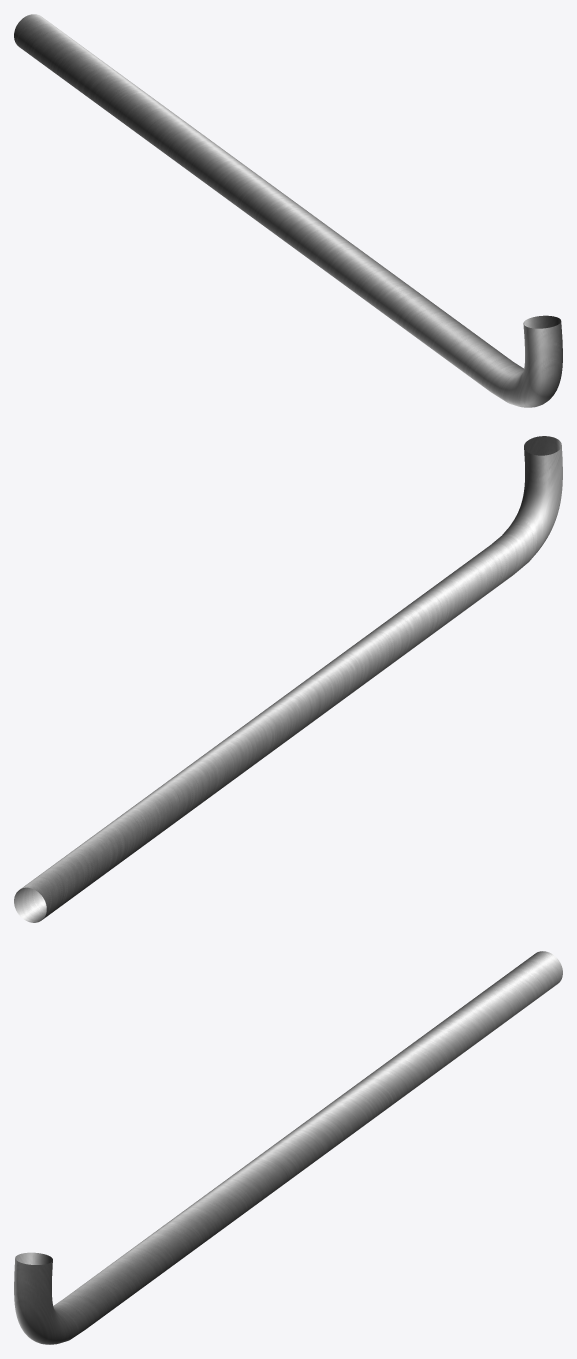
The model's file is stage.fbx.
The picture shows the model from 3 angles, top to bottom: view 1: azimuth 30°, elevation 25°; view 2: azimuth 150°, elevation 25°; view 3: azimuth 330°, elevation 25°; orthographic projection.
Visible parts, largest first — view 1: スイープ; view 2: スイープ; view 3: スイープ.
Boxes of the visible parts, bbox=[...] form: スイープ: bbox=[14, 14, 562, 407]; スイープ: bbox=[14, 436, 562, 922]; スイープ: bbox=[14, 951, 562, 1344].
Size of the model in its own units: 389 by 1149 by 10496.
1 material, 1 textured.
